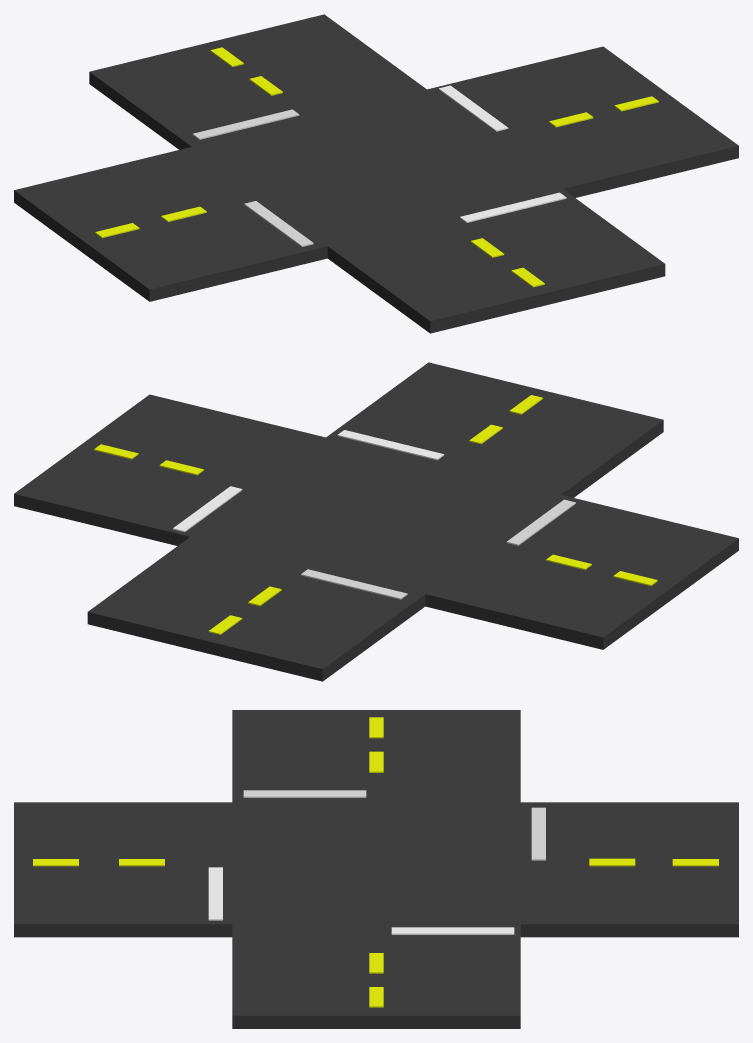
Rendered from Fourwayblend.fbx.
3 views of the same model, one above another, from view 1: azimuth 30°, elevation 25°; view 2: azimuth 150°, elevation 25°; view 3: azimuth 270°, elevation 25° (orthographic). The views are drawn at different scales.
Visible parts, largest first — view 1: Cube.001, Cube, Cube.010, Cube.011, Cube.004, Cube.005; view 2: Cube, Cube.001, Cube.010, Cube.011, Cube.005, Cube.004; view 3: Cube.001, Cube, Cube.004, Cube.005, Cube.010, Cube.011.
Part boxes in pixels (x1,y1,x2,y2): Cube.001: [14, 46, 738, 301]; Cube: [89, 14, 665, 333]; Cube.010: [460, 192, 566, 222]; Cube.011: [192, 109, 299, 139]; Cube.004: [438, 85, 508, 131]; Cube.005: [244, 201, 313, 246]; Cube: [87, 362, 663, 681]; Cube.001: [14, 394, 738, 649]; Cube.010: [337, 430, 444, 460]; Cube.011: [301, 569, 407, 599]; Cube.005: [506, 499, 575, 545]; Cube.004: [173, 486, 242, 532]; Cube.001: [232, 710, 520, 1028]; Cube: [14, 802, 738, 937]; Cube.004: [391, 927, 514, 934]; Cube.005: [243, 790, 366, 797]; Cube.010: [208, 867, 222, 920]; Cube.011: [531, 807, 545, 860].
Bounding box in the file's own units: 9963 × 221 × 9984.
